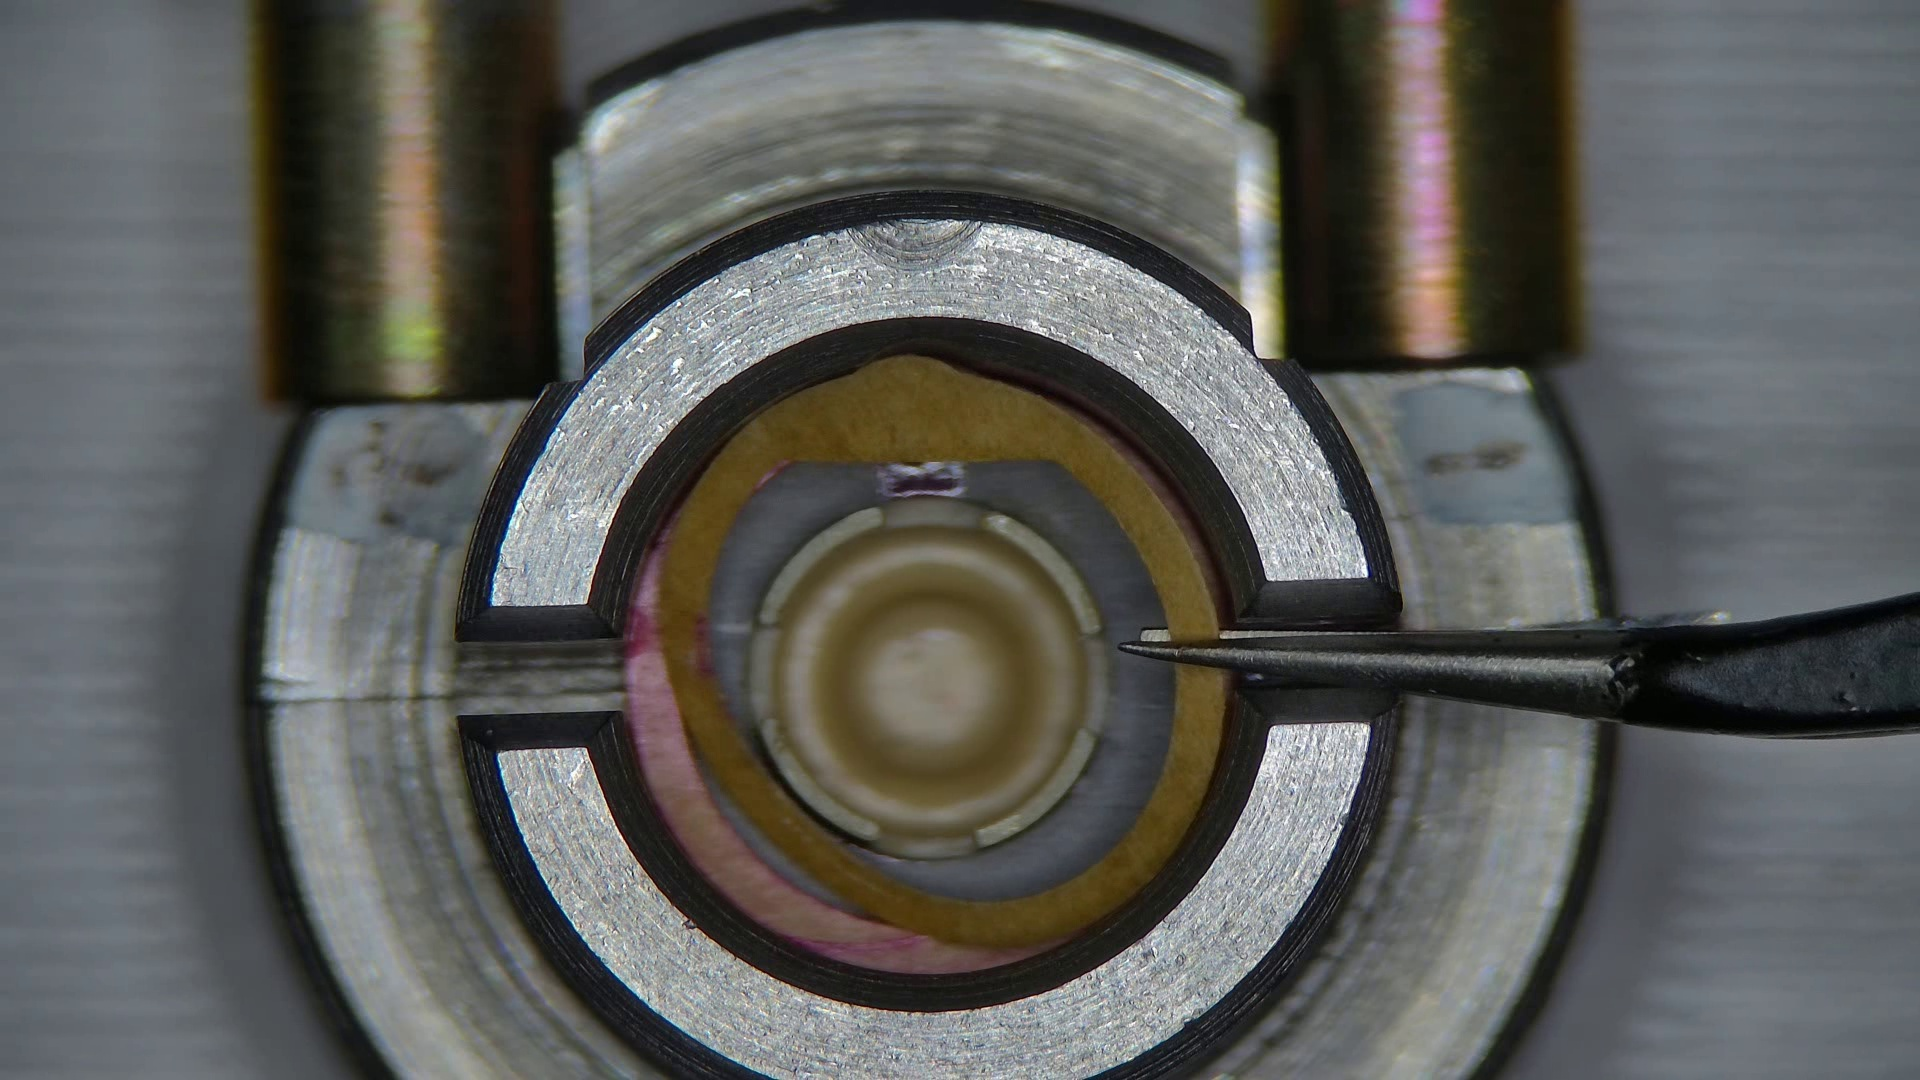GreyOring: (626, 563, 1058, 976)
YellowOring: (708, 459, 1171, 899), (728, 804, 822, 894)
redOring: (654, 357, 1224, 939)
